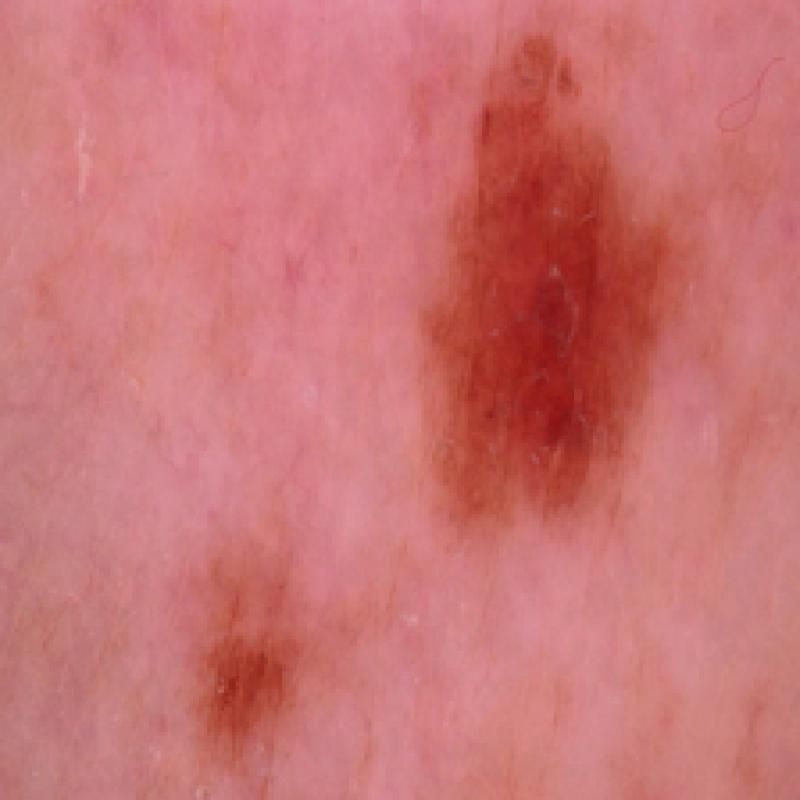benign: (419, 18, 670, 534), (195, 562, 346, 771)
